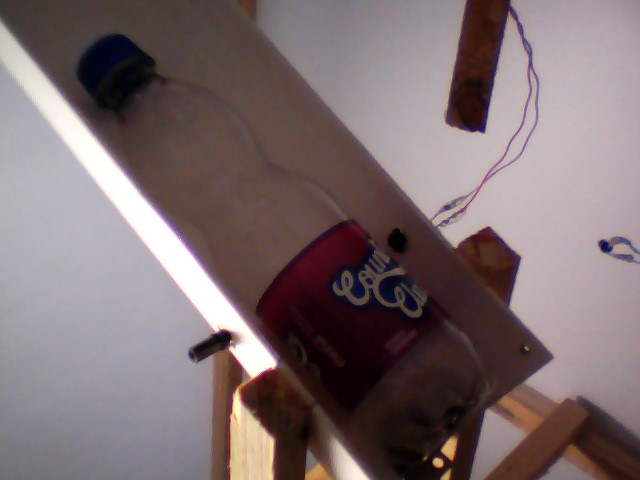plastico: (70, 27, 500, 470)
